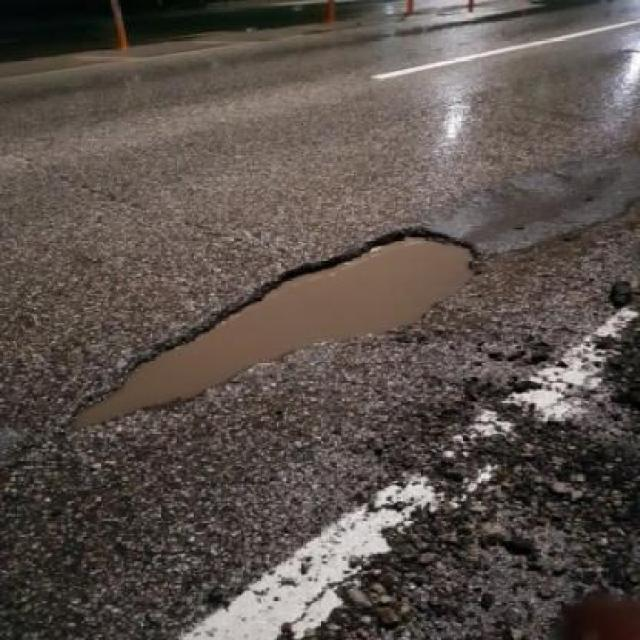Buraco: (51, 222, 492, 442)
